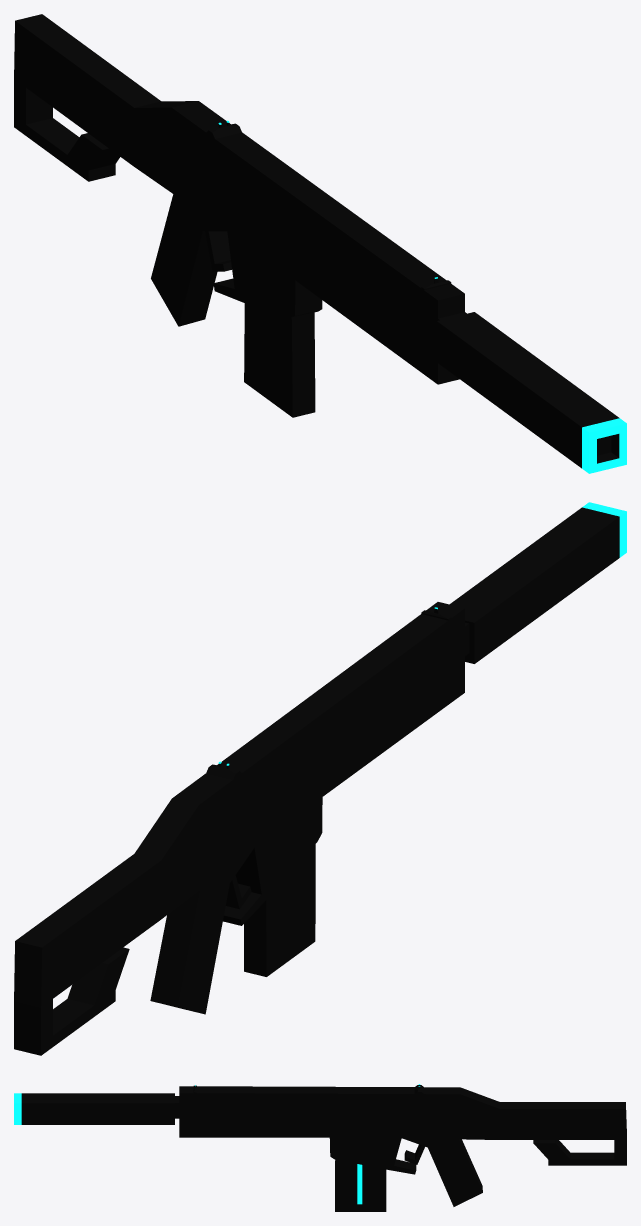
File: AssultRifel.fbx
3 renders of one model, top to bottom at view 1: azimuth 30°, elevation 25°; view 2: azimuth 150°, elevation 25°; view 3: azimuth 270°, elevation 25°, orthographic. The views are drawn at different scales.
Parts seen in each view (by area): view 1: Gun; view 2: Gun; view 3: Gun.
Boxes of the visible parts, bbox=[...] form: Gun: bbox=[14, 14, 626, 473]; Gun: bbox=[14, 502, 626, 1055]; Gun: bbox=[14, 1084, 626, 1211].
Bounding box in the file's own units: 58.46 × 347 × 1557.
